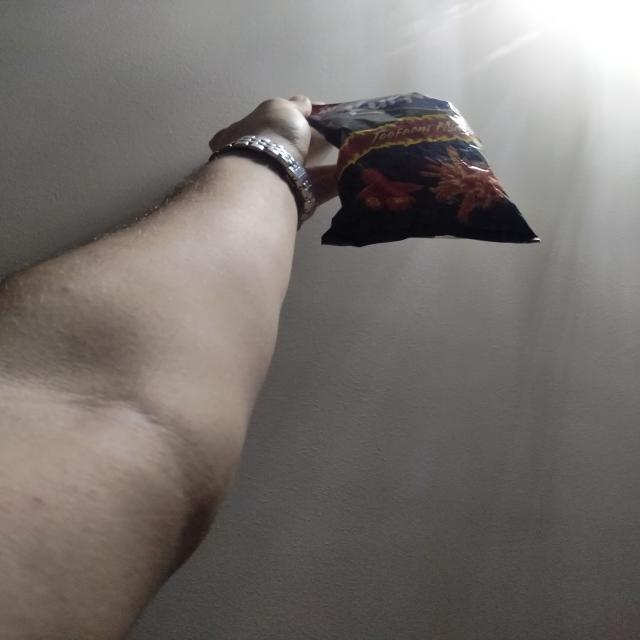Plastic: (320, 96, 542, 251)
